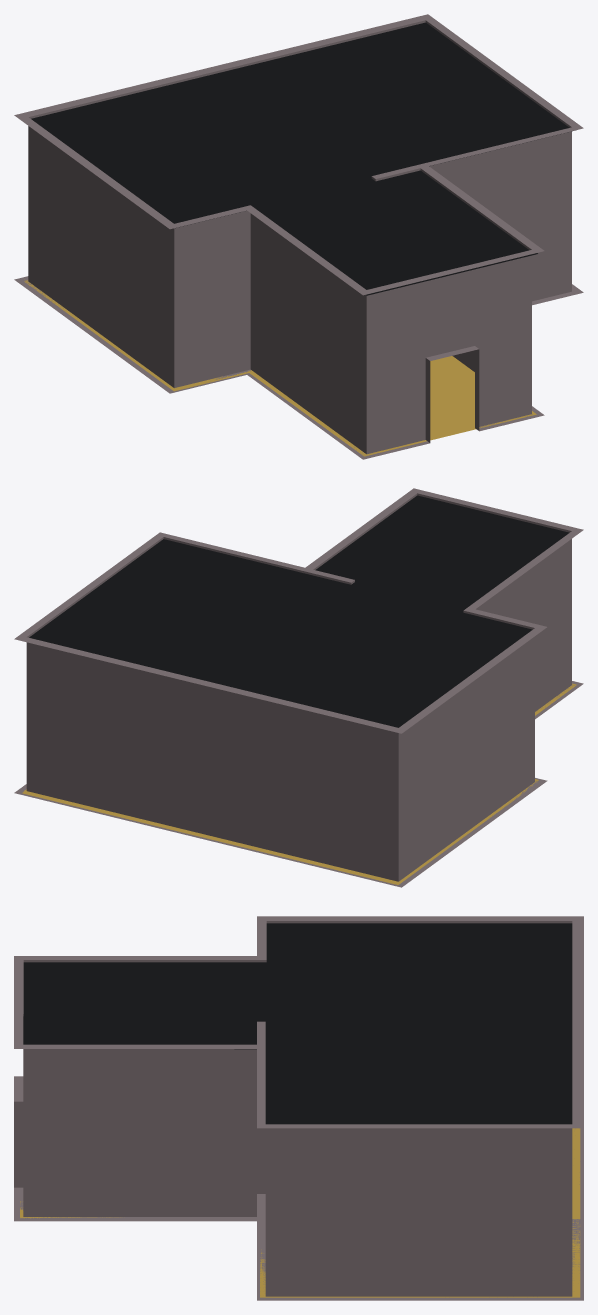
Rendered from WorkBuilding.fbx.
The picture shows the model from 3 angles, top to bottom: view 1: azimuth 30°, elevation 25°; view 2: azimuth 150°, elevation 25°; view 3: azimuth 270°, elevation 25°; orthographic projection. The views are drawn at different scales.
Visible parts, largest first — view 1: Walls, Roof, Floor; view 2: Walls, Roof, Floor; view 3: Walls, Roof, Floor.
Boxes of the visible parts, x1,y1,x2,y2 form: Walls: (14, 14, 583, 459); Roof: (31, 22, 575, 295); Floor: (24, 279, 536, 456); Walls: (14, 488, 583, 887); Roof: (29, 495, 569, 727); Floor: (22, 683, 576, 884); Walls: (14, 916, 583, 1300); Roof: (23, 923, 572, 1124); Floor: (20, 1128, 580, 1297).
Bounding box in the file's own units: 3607 × 1368 × 4102.
